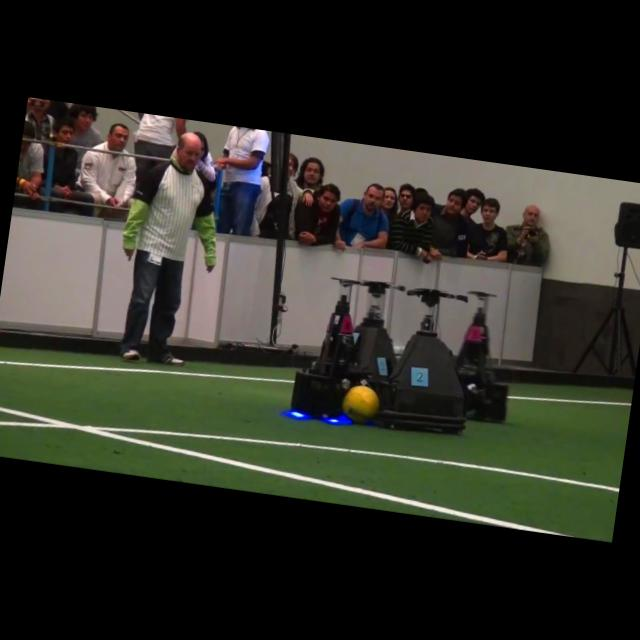ball: (342, 385, 379, 423)
robot: (377, 289, 465, 433), (291, 279, 362, 418), (456, 291, 507, 421), (355, 281, 396, 388)
